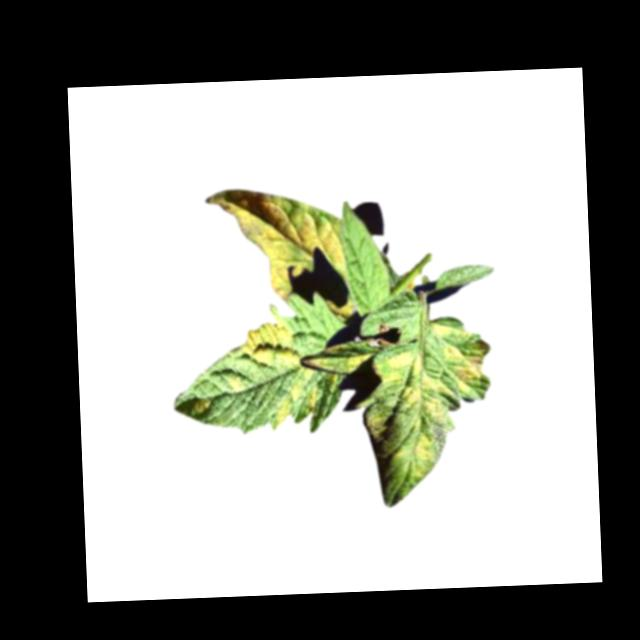Leaf_Mold: (203, 183, 344, 303), (371, 347, 449, 425), (431, 320, 491, 393), (243, 315, 302, 370), (391, 431, 434, 480), (271, 386, 303, 429), (194, 395, 212, 412)
